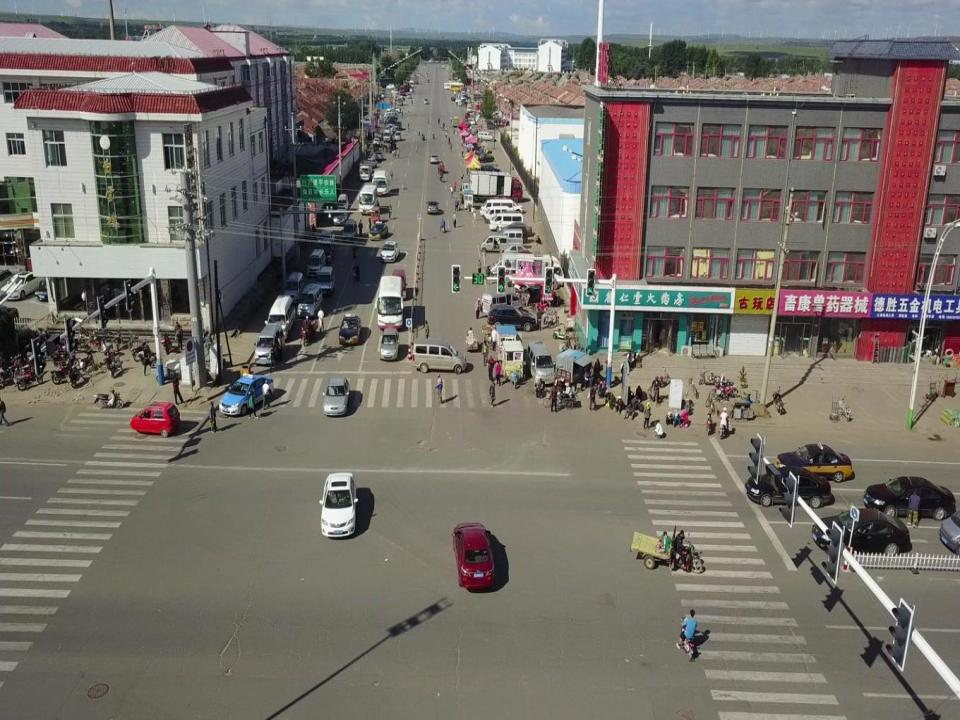bus: (377, 275, 403, 330), (357, 184, 377, 214), (372, 169, 388, 196), (450, 84, 460, 92)
car: (814, 513, 913, 556), (863, 477, 956, 521), (775, 440, 852, 484), (748, 468, 832, 508), (451, 522, 495, 592), (322, 471, 356, 539), (218, 373, 274, 414), (131, 399, 180, 437), (1, 267, 52, 302), (487, 306, 536, 331), (324, 379, 350, 415), (340, 312, 360, 346), (379, 329, 399, 362), (368, 222, 388, 241), (381, 242, 399, 263), (316, 229, 334, 250), (342, 219, 356, 241), (332, 208, 346, 226), (426, 200, 439, 214), (478, 153, 493, 162), (366, 158, 377, 169), (464, 118, 476, 125), (430, 154, 438, 164), (374, 151, 382, 160), (373, 137, 380, 147), (396, 122, 403, 131), (383, 126, 390, 135), (386, 117, 398, 122), (384, 133, 390, 142), (395, 134, 402, 141), (422, 98, 429, 104), (464, 113, 470, 119), (461, 90, 466, 97), (458, 99, 462, 106), (466, 105, 470, 111), (451, 96, 455, 101), (408, 93, 412, 98), (409, 88, 413, 93), (425, 73, 428, 77), (426, 80, 429, 83)
truck: (470, 170, 523, 202), (358, 160, 371, 182), (410, 73, 419, 85), (399, 86, 404, 94), (404, 81, 408, 91)
van: (410, 340, 466, 373), (266, 294, 294, 340), (526, 342, 554, 386), (255, 325, 284, 367), (297, 283, 325, 319), (482, 292, 520, 317), (489, 257, 532, 279), (488, 212, 522, 232), (285, 268, 303, 302), (316, 268, 336, 298), (480, 199, 514, 216), (308, 248, 326, 279), (498, 229, 524, 248), (480, 235, 507, 253), (485, 206, 512, 224), (390, 270, 406, 298), (337, 194, 348, 212), (478, 132, 493, 141), (384, 111, 394, 120)
